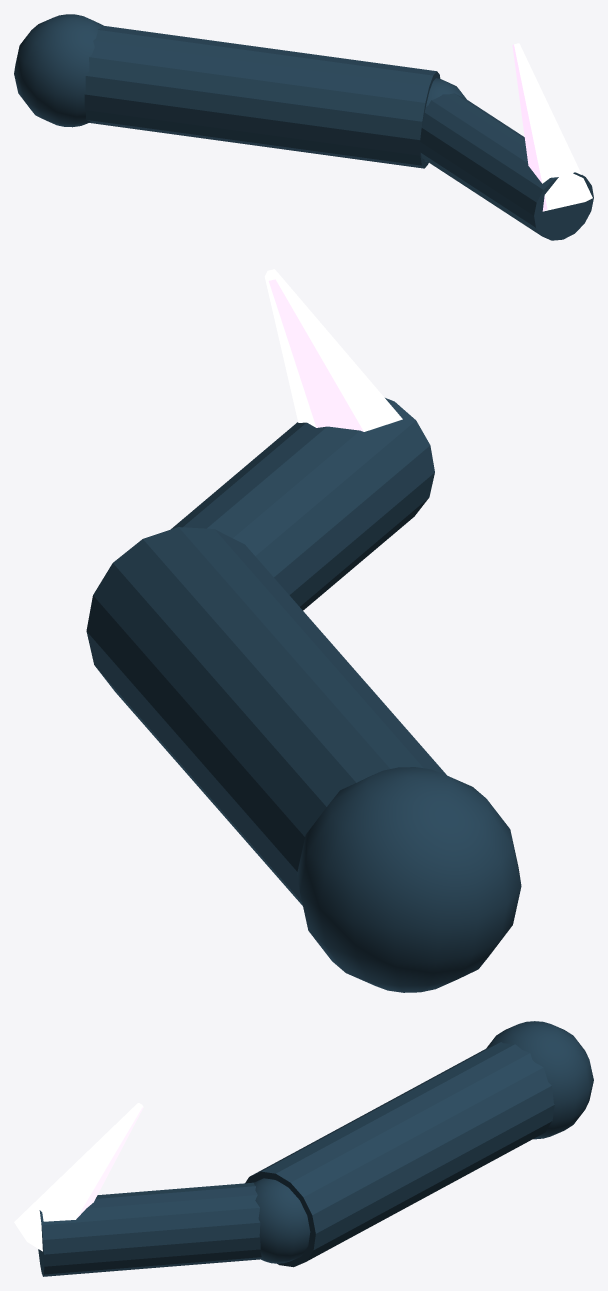
The model's file is SM_Keeper_Nun_Arm11.fbx.
The picture shows the model from 3 angles, top to bottom: view 1: azimuth 30°, elevation 25°; view 2: azimuth 150°, elevation 25°; view 3: azimuth 270°, elevation 25°; orthographic projection. The views are drawn at different scales.
Visible parts, largest first — view 1: SM_Keeper_Nun_Arm11; view 2: SM_Keeper_Nun_Arm11; view 3: SM_Keeper_Nun_Arm11.
Boxes of the visible parts, box(x1,y1,x2,y2) form: SM_Keeper_Nun_Arm11: box(14, 14, 593, 240); SM_Keeper_Nun_Arm11: box(86, 269, 521, 992); SM_Keeper_Nun_Arm11: box(14, 1021, 593, 1276).
Size of the model in its own units: 6.9 by 3.22 by 9.8.
